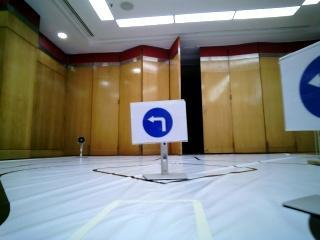left: (136, 103, 186, 136)
